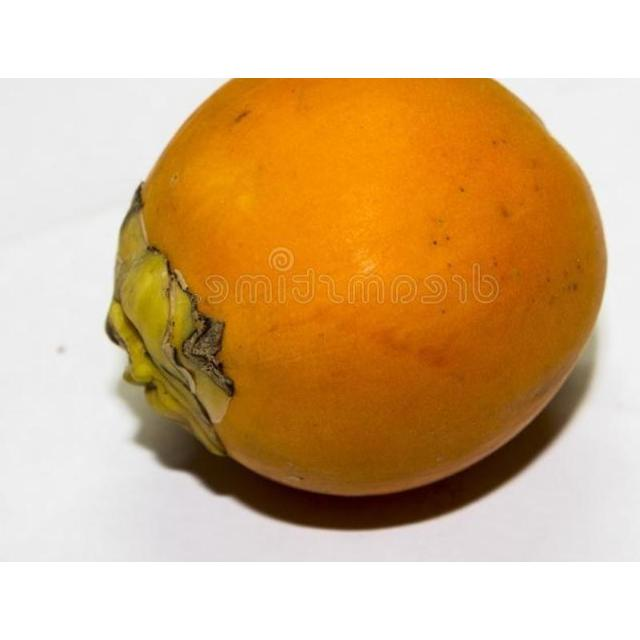good: (105, 78, 610, 499)
